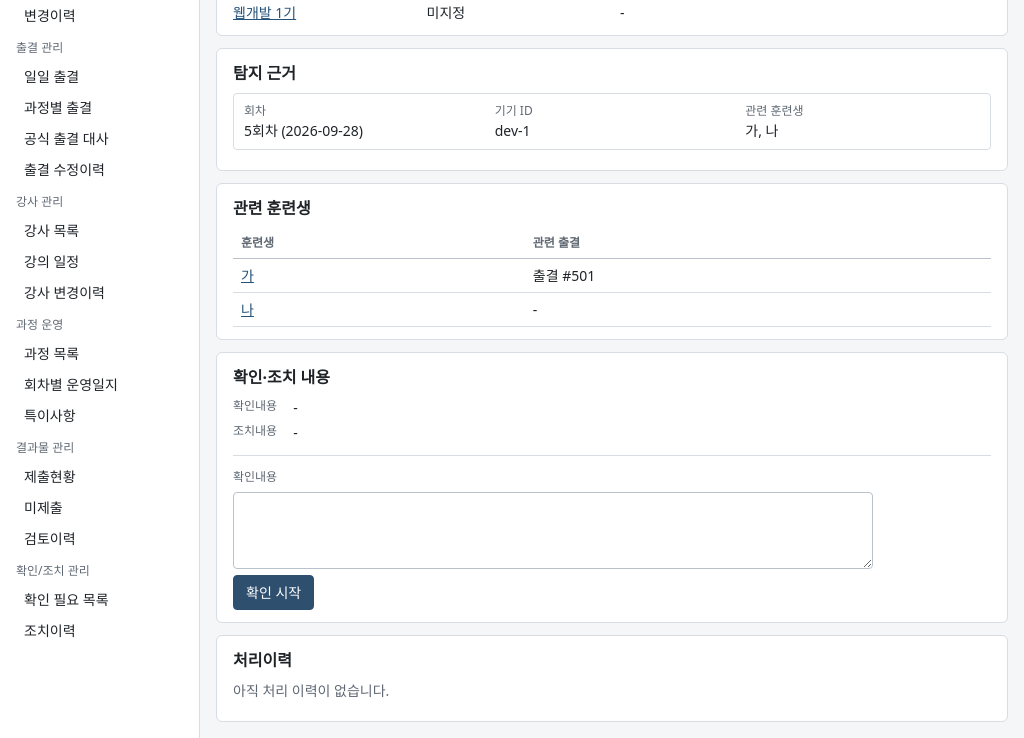
Scenario: S23 확인 필요 상세 › 탐지 근거를 사실 그대로(회차·기기·훈련생 이름) 보여주고, 상태별 처리 폼으로 전이한다
The image size is (1024, 738).
(page scrolled)
Expected: the text "5회차 (2026-09-28)" is shown, [244,121,363,140]
Expected: the text "dev-1" is shown, [495,121,531,140]
Click the button "확인 시작": (274, 592) [233,575,314,610]
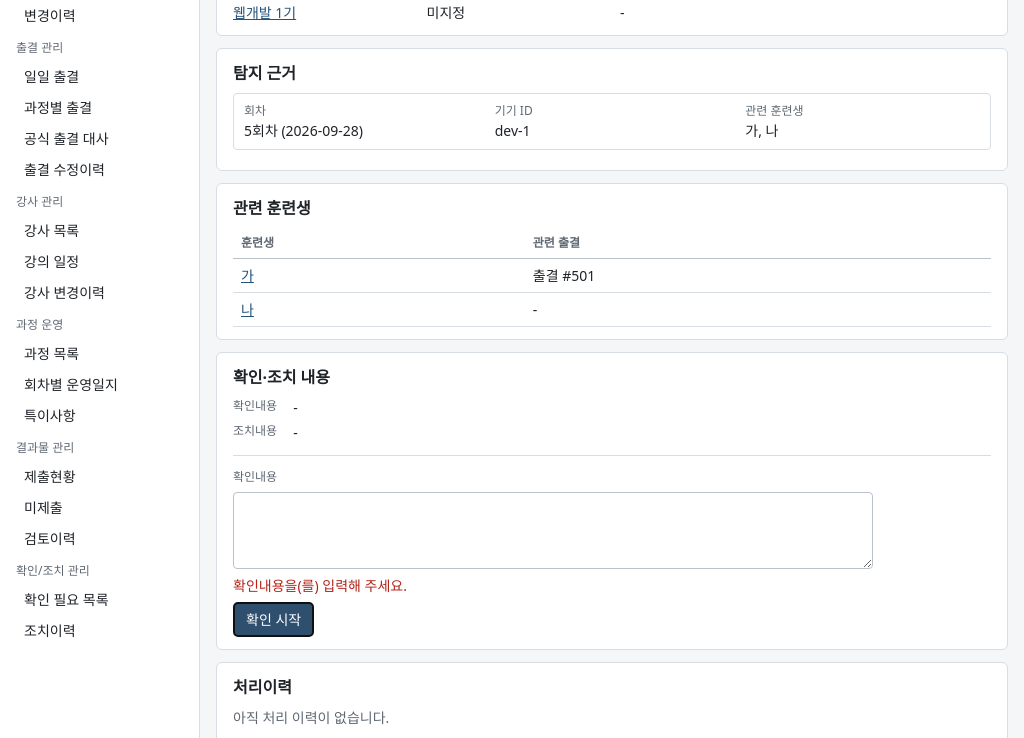
Result: the message reads "확인내용을(를) 입력해 주세요." at [233,576,407,595]
In the text box labelled "확인내용": (553, 530) [233,492,873,569], type "근거 확인"
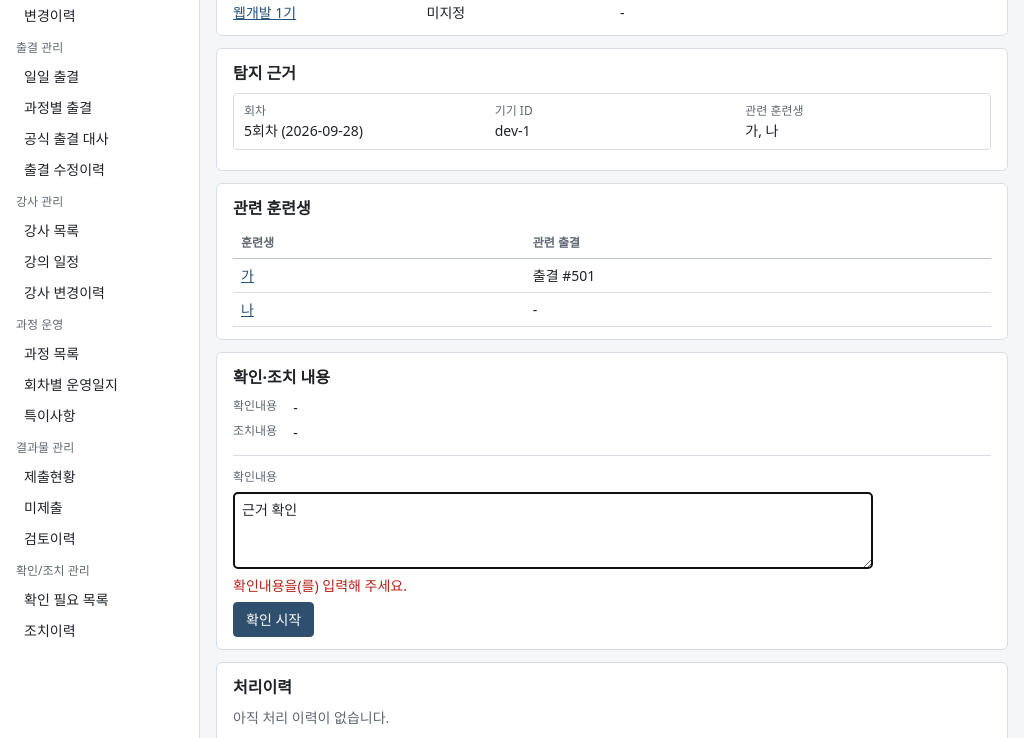
Click the button "확인 시작": (274, 620) [233,602,314,637]
(page scrolled)
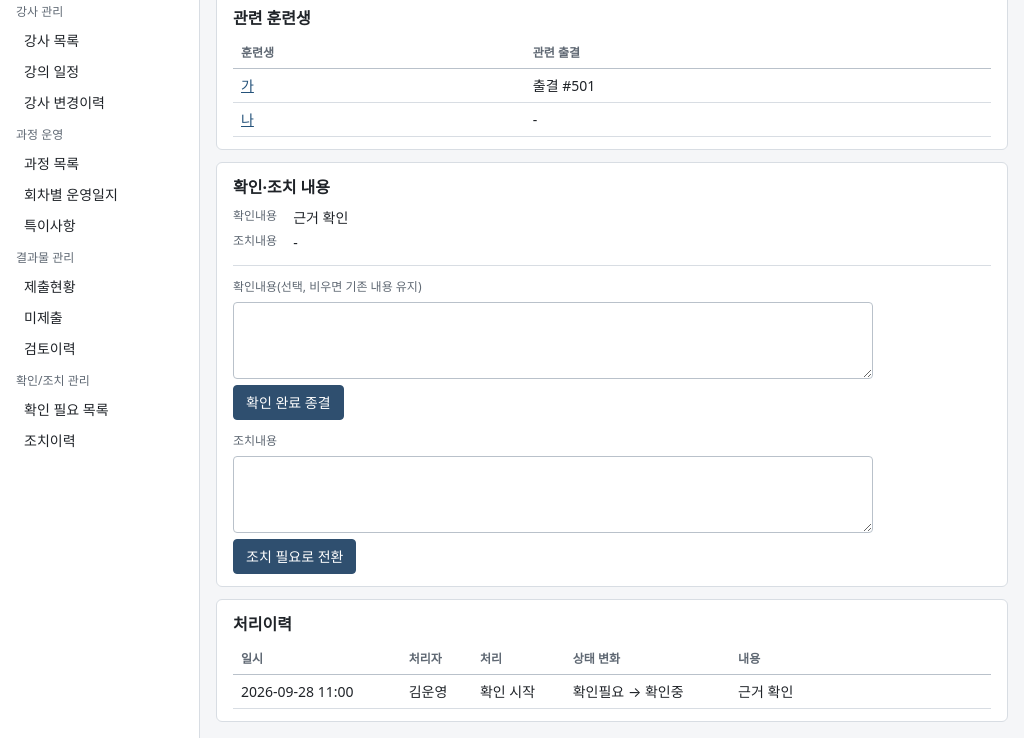
Result: the button "확인 완료 종결" is shown at [233,385,344,420]
Result: the button "조치 필요로 전환" is shown at [233,539,356,574]
Result: the row "2026-09-28 11:00 김운영 확인 시작 확인필요 → 확인중 근거 확인" is shown at [233,674,991,708]
